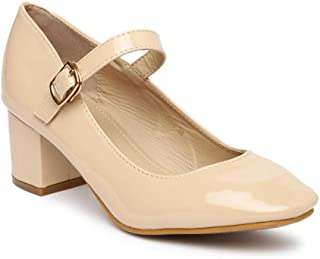shoes: (1, 1, 320, 250)
